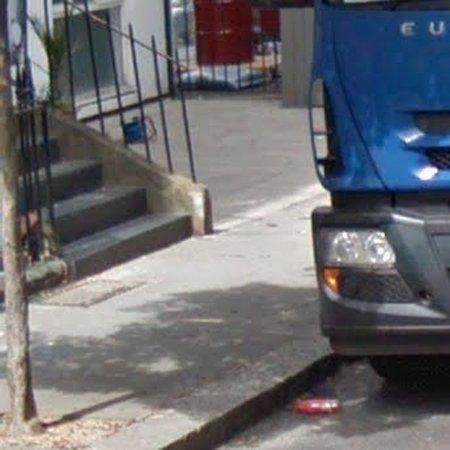stairs: (17, 103, 192, 289)
